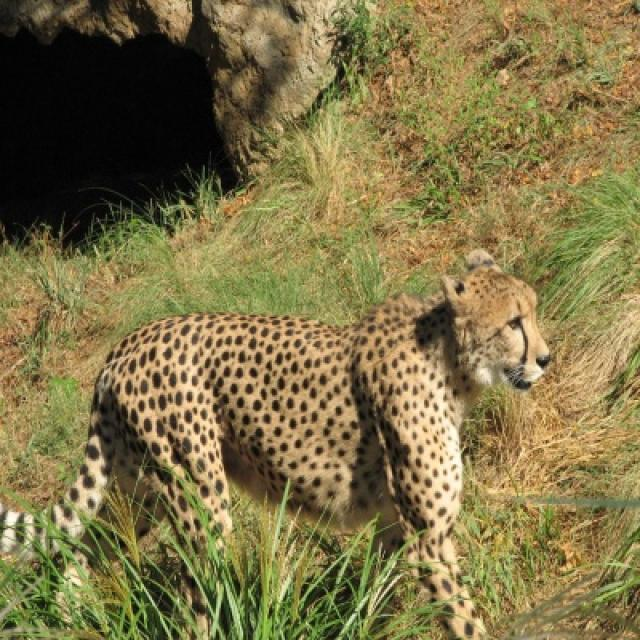Cheetah: (48, 269, 552, 638)
